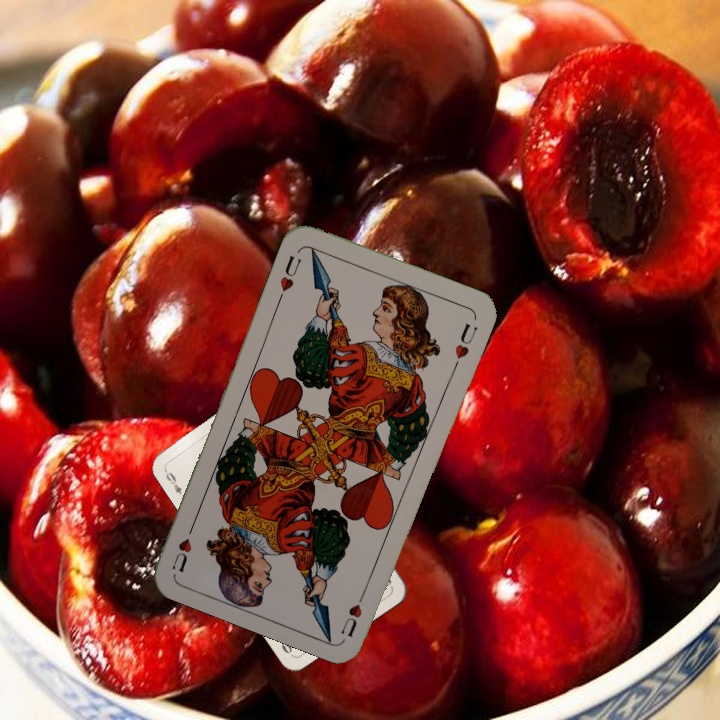E9: (160, 466, 187, 502)
HU: (336, 584, 370, 640), (274, 251, 304, 303)
